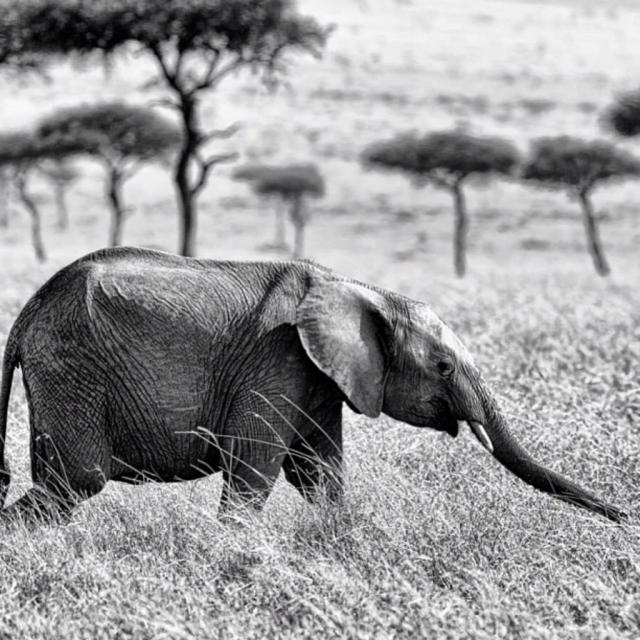elephant: (7, 250, 616, 528)
